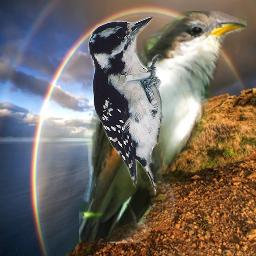Cuckoo: (79, 11, 247, 243)
Woodpecker: (88, 17, 166, 196)
